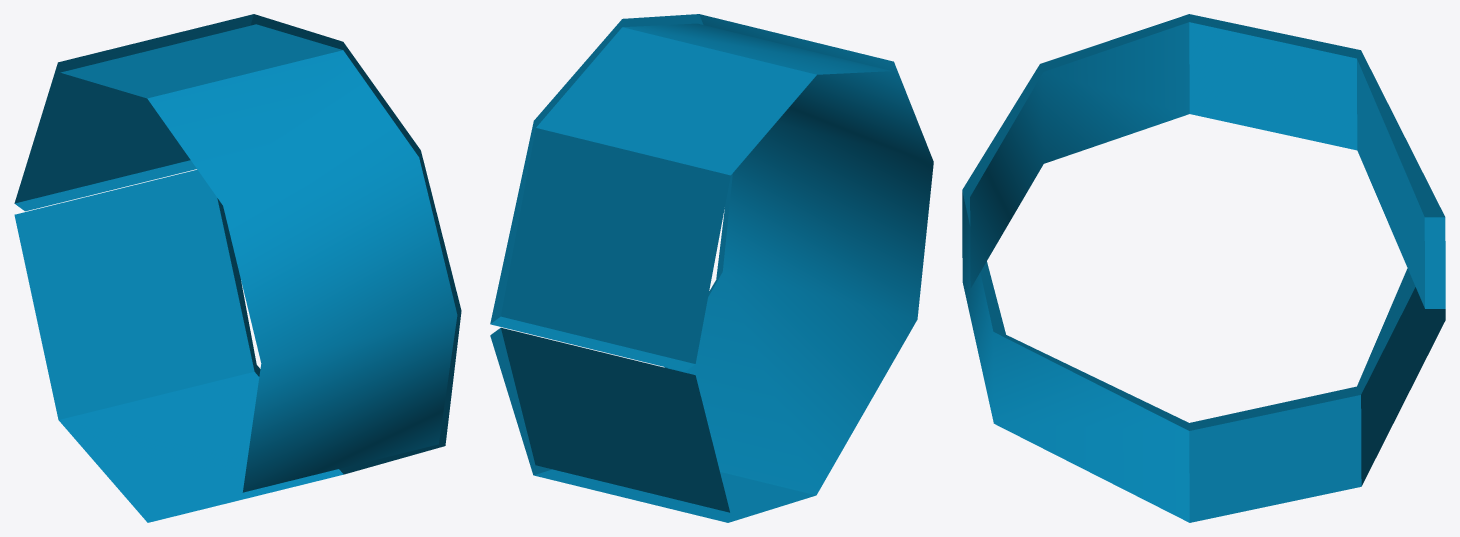
The picture shows the model from 3 angles, left to right: view 1: azimuth 30°, elevation 25°; view 2: azimuth 150°, elevation 25°; view 3: azimuth 270°, elevation 25°; orthographic projection. The views are drawn at different scales.
Visible parts, largest first — view 1: 0_2_1_3_0_3_2_3_1_0_2; view 2: 0_2_1_3_0_3_2_3_1_0_2; view 3: 0_2_1_3_0_3_2_3_1_0_2.
Boxes of the visible parts, box(x1,y1,x2,y2) form: 0_2_1_3_0_3_2_3_1_0_2: box(14, 14, 461, 522); 0_2_1_3_0_3_2_3_1_0_2: box(490, 14, 933, 522); 0_2_1_3_0_3_2_3_1_0_2: box(962, 14, 1445, 522).
Bounding box in the file's own units: 3.7 × 7.78 × 8.18.
